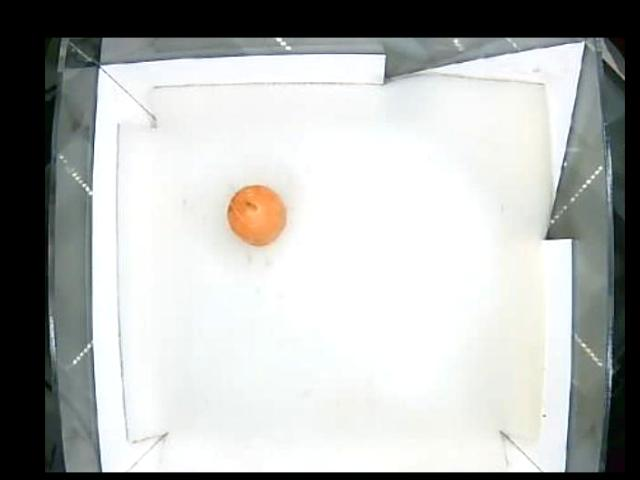Carrot: (226, 182, 286, 245)
